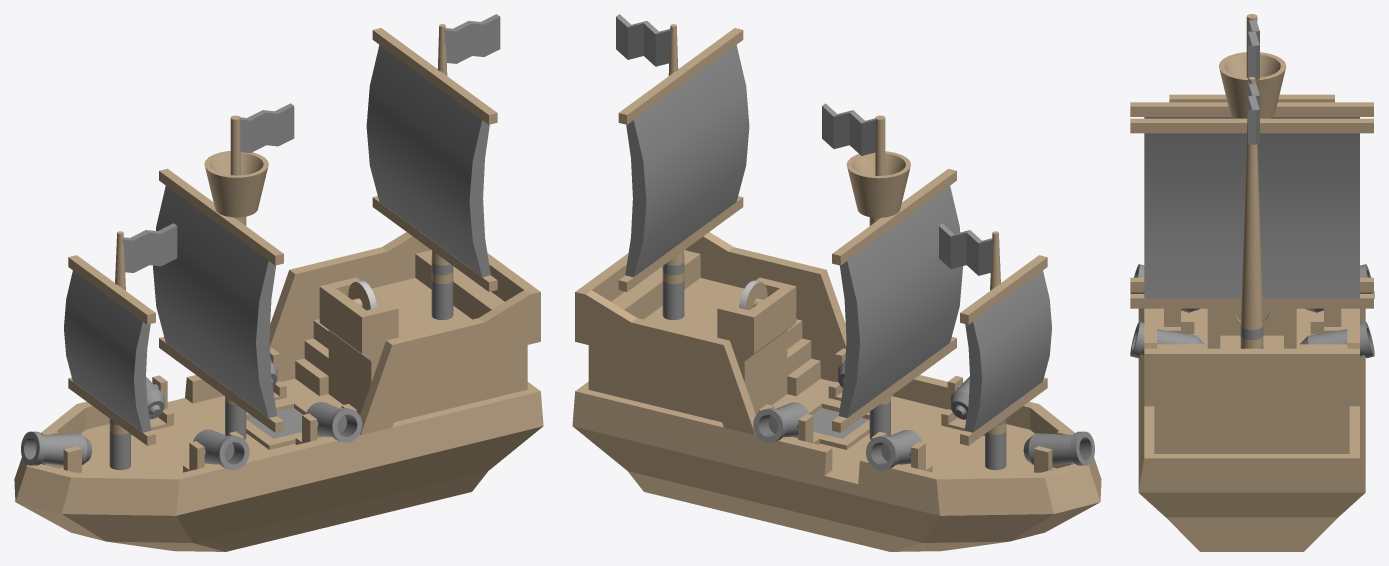
Rendered from pirateship.fbx.
3 renders of one model, left to right at view 1: azimuth 30°, elevation 25°; view 2: azimuth 150°, elevation 25°; view 3: azimuth 270°, elevation 25°, orthographic. The views are drawn at different scales.
Parts seen in each view (by area): view 1: watercraftPack_003:polySurface1; view 2: watercraftPack_003:polySurface1; view 3: watercraftPack_003:polySurface1.
Boxes of the visible parts, x1,y1,x2,y2 form: watercraftPack_003:polySurface1: (14, 14, 543, 551); watercraftPack_003:polySurface1: (572, 14, 1101, 551); watercraftPack_003:polySurface1: (1130, 14, 1374, 551).
Size of the model in its own units: 9 by 8.01 by 3.77.
